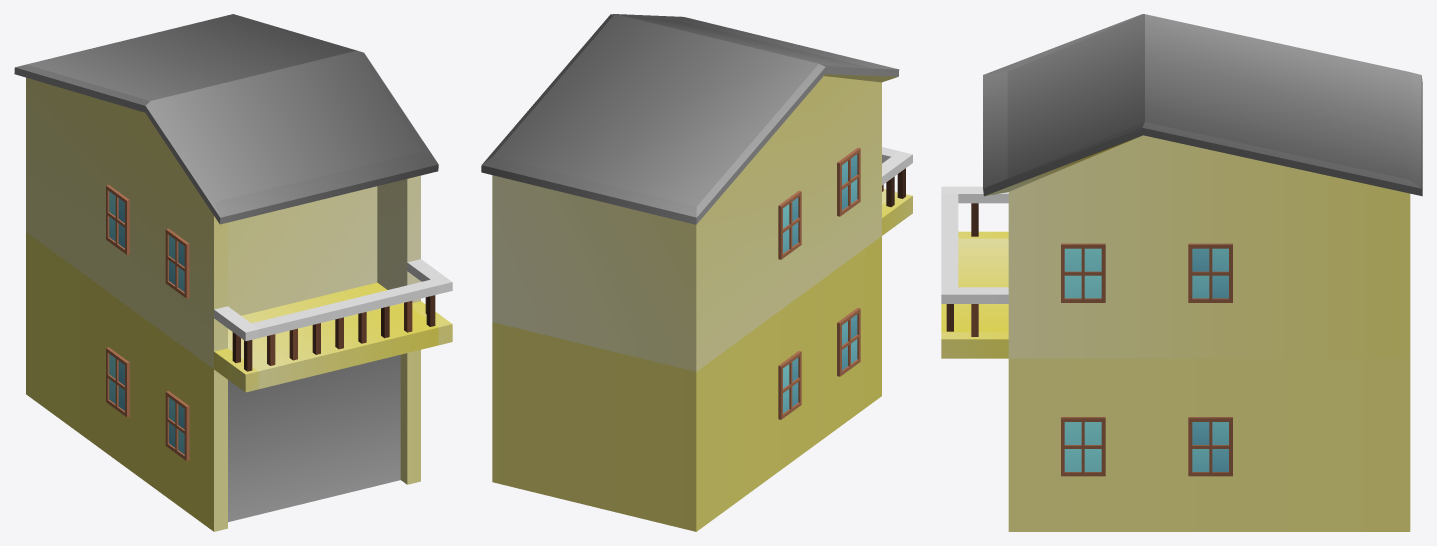
Rendered from SM_Steet_House_F1.fbx.
3 renders of one model, left to right at view 1: azimuth 30°, elevation 25°; view 2: azimuth 150°, elevation 25°; view 3: azimuth 270°, elevation 25°, orthographic. The views are drawn at different scales.
Visible parts, largest first — view 1: Steet_House_F1_mash; view 2: Steet_House_F1_mash; view 3: Steet_House_F1_mash.
Boxes of the visible parts, x1=… form: Steet_House_F1_mash: x1=14, y1=14, x2=452, y2=531; Steet_House_F1_mash: x1=481, y1=14, x2=912, y2=531; Steet_House_F1_mash: x1=941, y1=14, x2=1422, y2=531.
Size of the model in its own units: 4.22 by 7.09 by 7.54.
